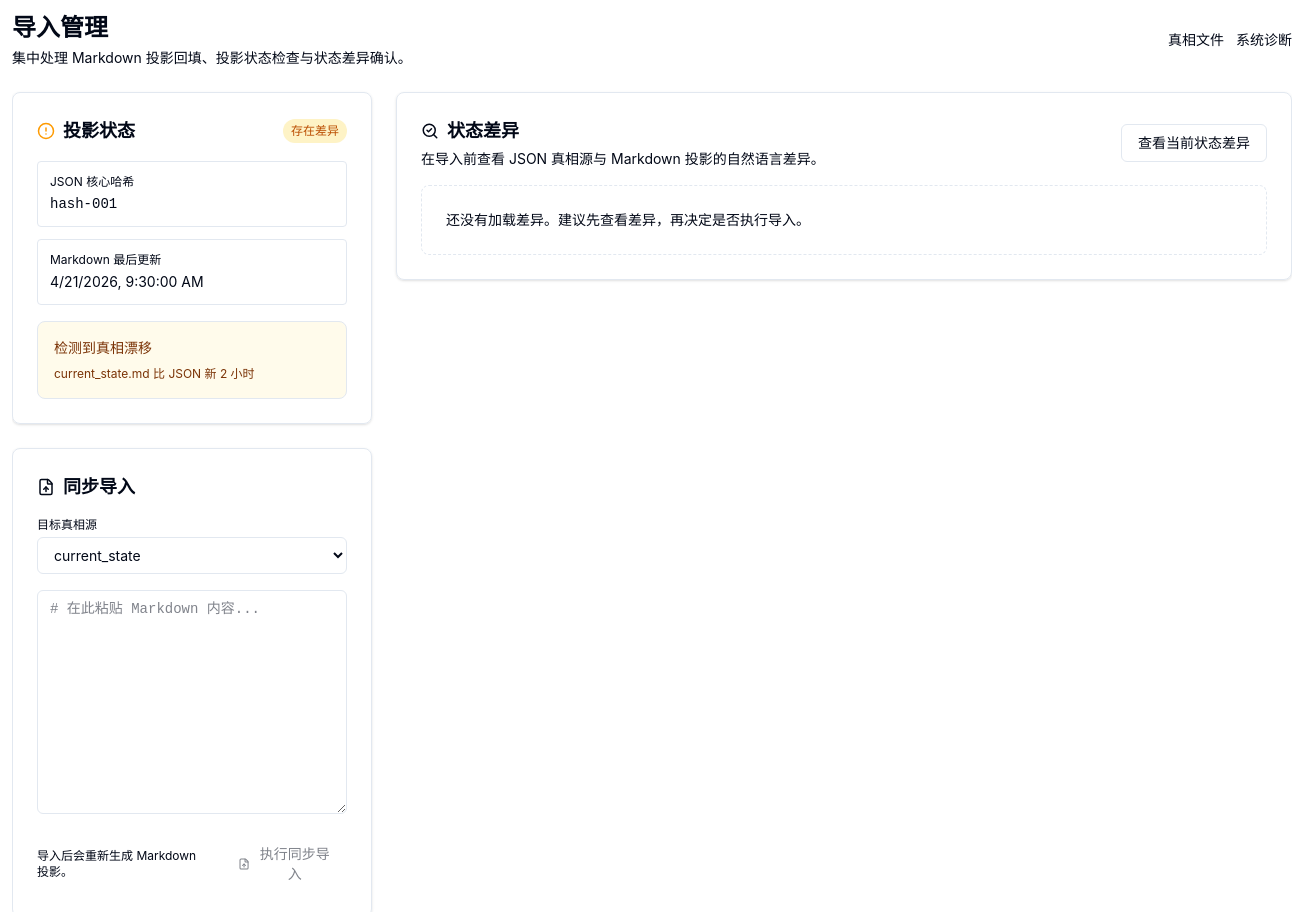
Scenario: ImportManager Page › loads projection status and opens diff view
Expected: the heading "导入管理" is shown, [12, 13, 108, 42]
Expected: the text "存在差异" is shown, [283, 119, 347, 143]
Click the button "查看当前状态差异" at (1194, 143), box [1121, 124, 1267, 162]
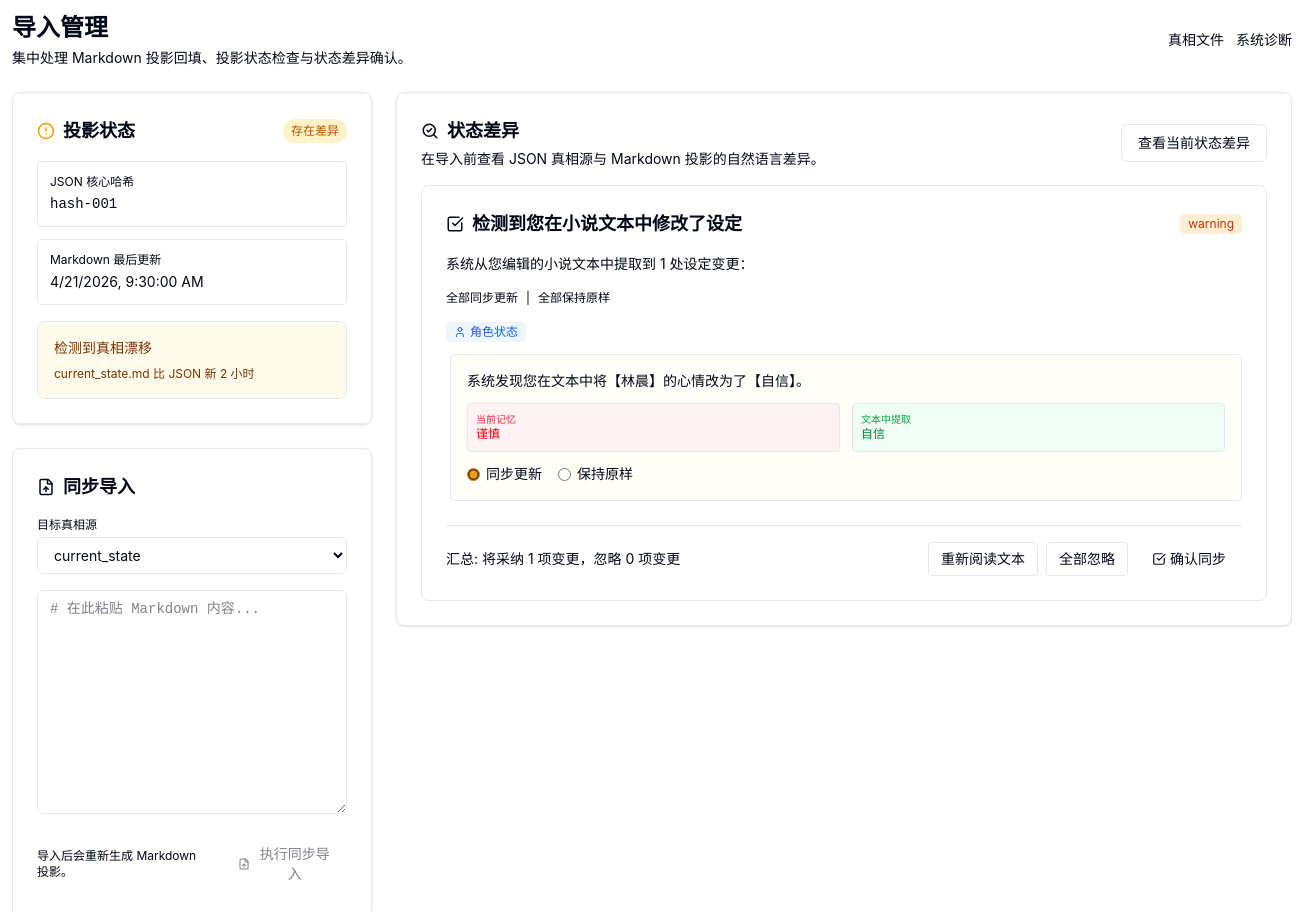
Expected: the text "系统从您编辑的小说文本中提取到 1 处设定变更：" is shown, [446, 255, 754, 272]
Expected: the text "系统发现您在文本中将【林晨】的心情改为了【自信】。" is shown, [467, 372, 810, 389]
